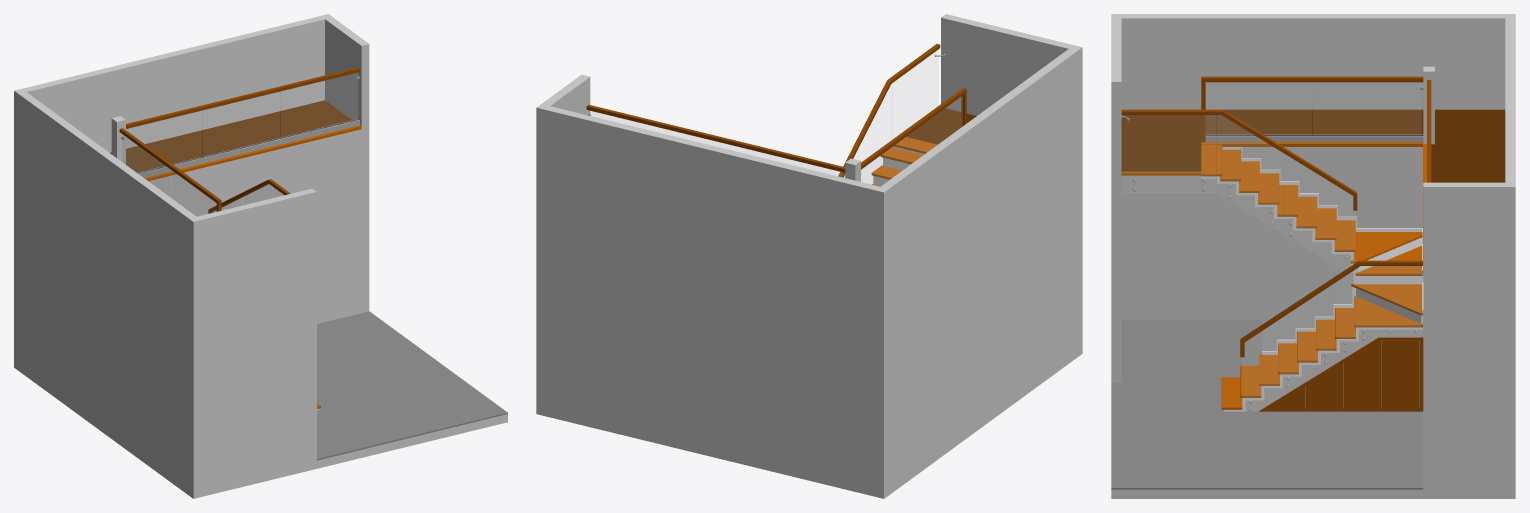
Rendered from Лестница.obj.
3 renders of one model, left to right at view 1: azimuth 30°, elevation 25°; view 2: azimuth 150°, elevation 25°; view 3: azimuth 270°, elevation 25°, orthographic. The views are drawn at different scales.
Bounding box in the file's own units: 5.98 × 5.04 × 5.91.
